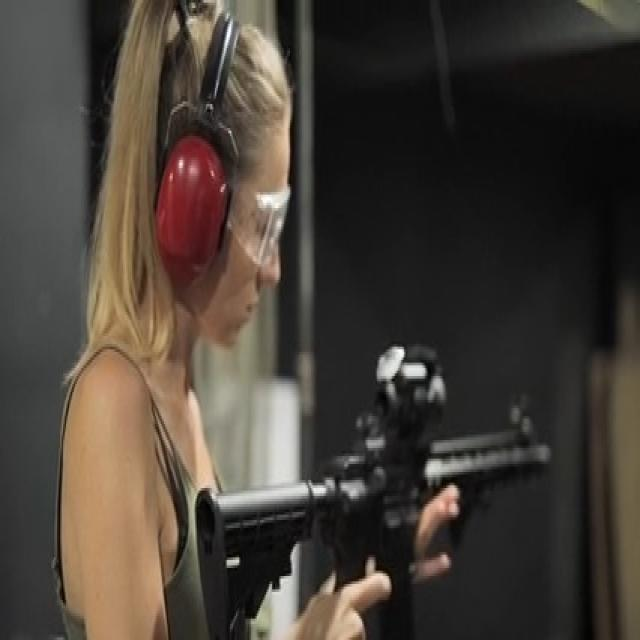Gun_Holder: (178, 316, 594, 638)
Person: (57, 0, 386, 640)
